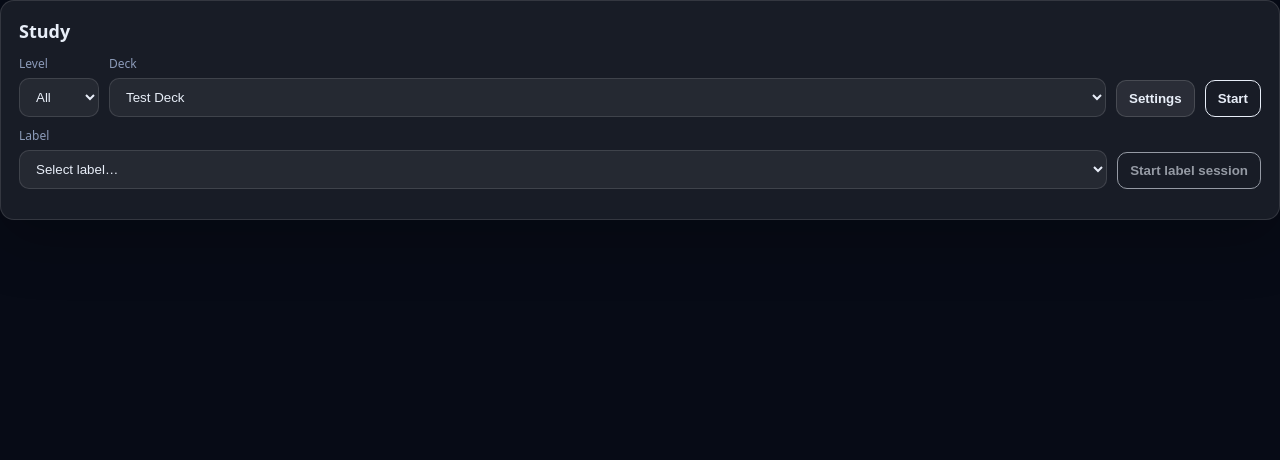
Scenario: StudyView › toggles settings panel when Settings button clicked
The width and height of the screenshot is (1280, 460).
Expected: the text "Study" is shown, [19, 19, 70, 43]
Click the button "Settings".
click(1155, 98)  # box [1116, 80, 1195, 117]
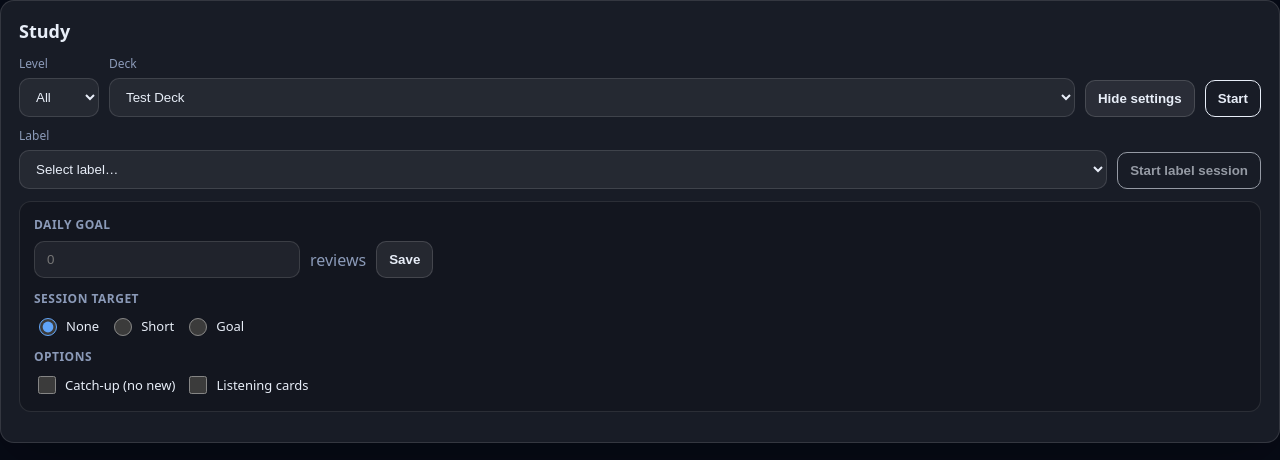
Now the text "Daily goal" is shown, box [34, 216, 110, 233]
Now the button "Hide settings" is shown
Click the button "Hide settings".
click(1140, 98)  # box [1085, 80, 1195, 117]
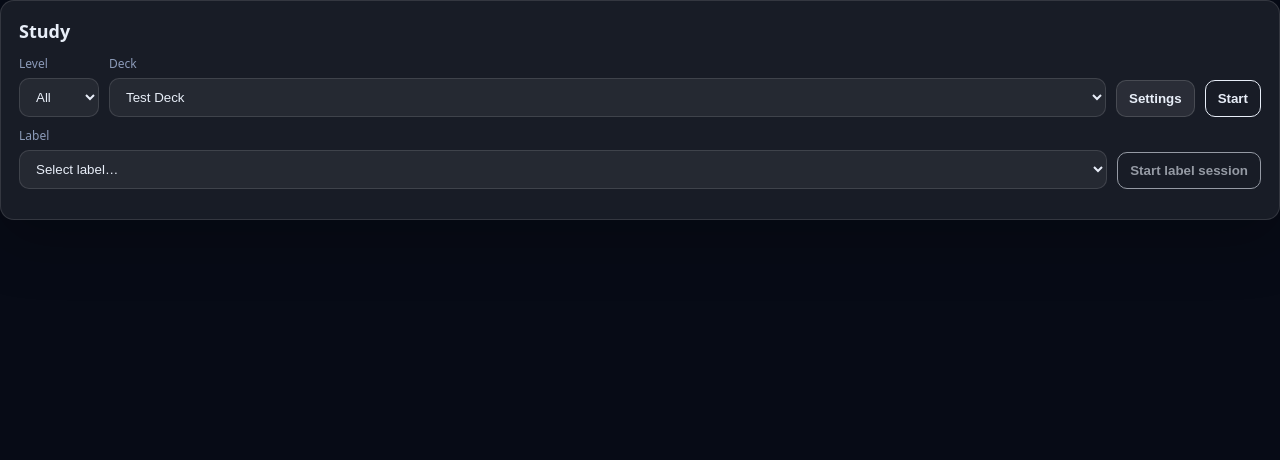
Now the text "Daily goal" is gone
